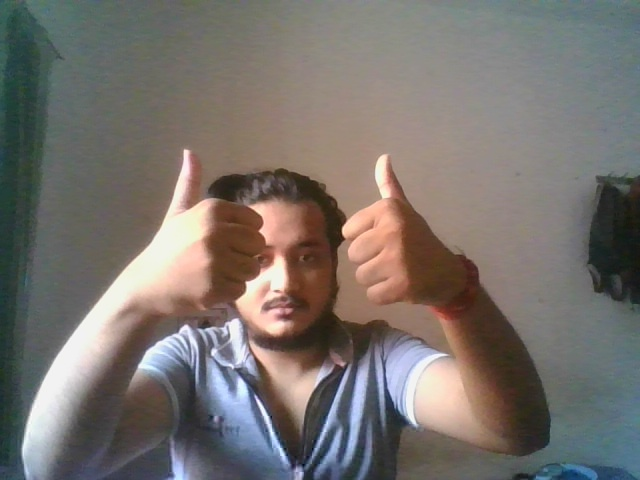ThumbsUp: (137, 148, 267, 319), (339, 152, 446, 311)
